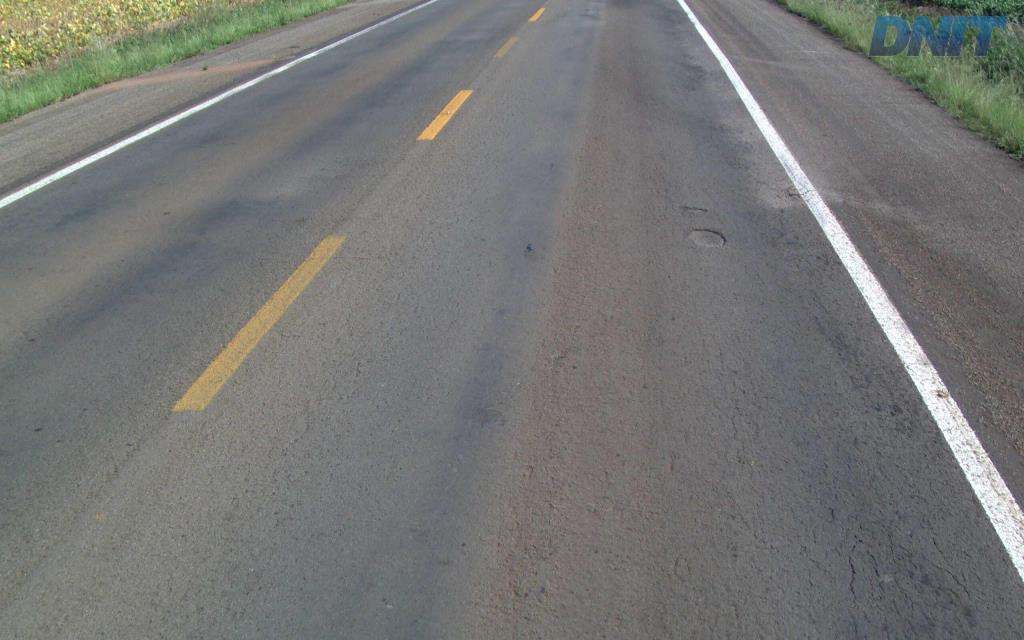pothole: (683, 222, 729, 248), (676, 199, 710, 217)
